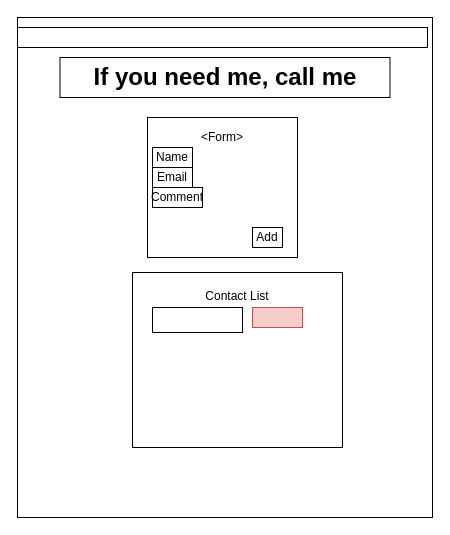
Some shapes in this 450 by 535 pixel diagram are drawn without their labels. Each missing label, with the centre of its shape:
"Delete" belongs at point (277, 317).
"List Item" belongs at point (197, 319).
"Nav bar" belongs at point (222, 37).
